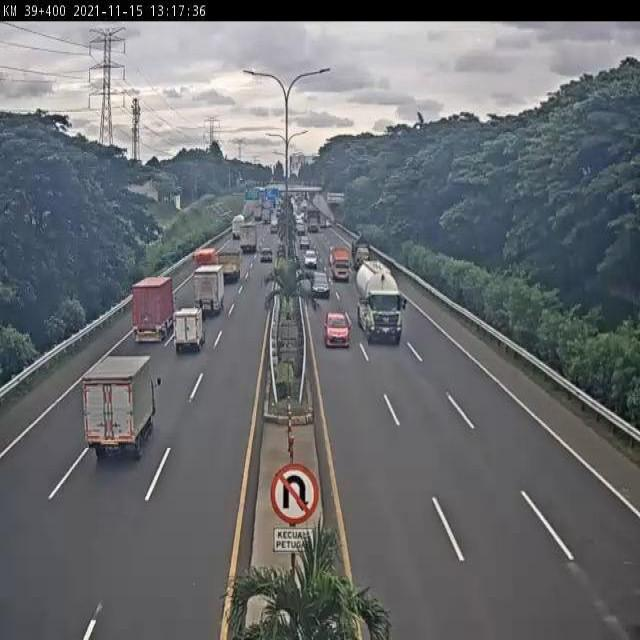car: (322, 309, 351, 352), (309, 269, 332, 300)
small truck: (330, 246, 352, 282)
truck-l-: (355, 256, 409, 345)
truck-m-: (131, 278, 177, 346), (195, 261, 227, 312)
truck-s-: (84, 354, 160, 458), (174, 308, 206, 352), (218, 247, 243, 281)
